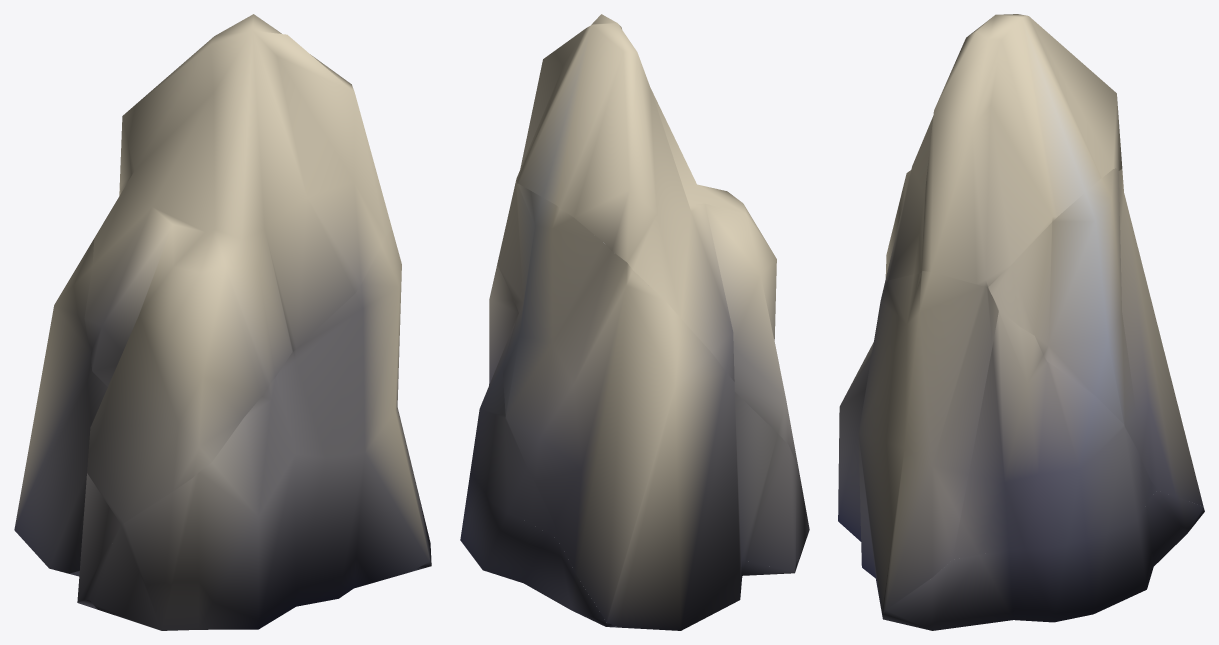
File: GrayRockPieces.gltf
The picture shows the model from 3 angles, left to right: view 1: azimuth 30°, elevation 25°; view 2: azimuth 150°, elevation 25°; view 3: azimuth 270°, elevation 25°; orthographic projection. The views are drawn at different scales.
Parts seen in each view (by area): view 1: GrayRockMesh5, GrayRockMesh1, GrayRockMesh4; view 2: GrayRockMesh4, GrayRockMesh5, GrayRockMesh3, GrayRockMesh2, GrayRockMesh1; view 3: GrayRockMesh5, GrayRockMesh1, GrayRockMesh4, GrayRockMesh2, GrayRockMesh3.
Boxes of the visible parts, box(x1,y1,x2,y2) form: GrayRockMesh5: box(84, 14, 391, 524); GrayRockMesh1: box(89, 229, 429, 630); GrayRockMesh4: box(14, 188, 120, 601); GrayRockMesh4: box(497, 183, 796, 630); GrayRockMesh5: box(515, 14, 797, 463); GrayRockMesh3: box(460, 473, 798, 627); GrayRockMesh2: box(470, 265, 557, 539); GrayRockMesh1: box(796, 462, 809, 562); GrayRockMesh5: box(885, 14, 1122, 287); GrayRockMesh1: box(838, 271, 998, 612); GrayRockMesh4: box(988, 168, 1203, 506); GrayRockMesh2: box(952, 310, 1158, 559); GrayRockMesh3: box(881, 490, 1204, 630).
Bounding box in the file's own units: 6.37 × 9.87 × 6.01.
